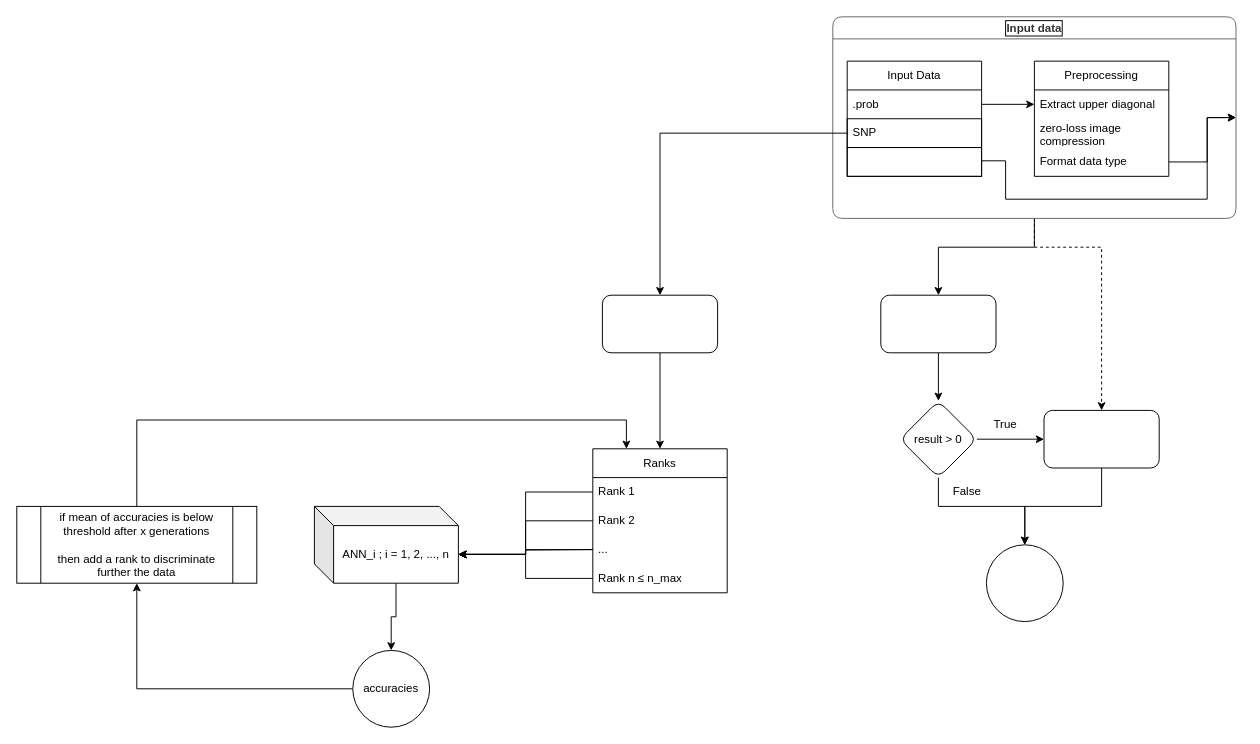
Image size: 1260x744. Some labels were removed from this diagram. The shapes that lost their labels are listed below. From the top down, each one's centre as x and y in pixels, then its label:
point (914, 161): fitness
point (659, 323): RF Classifier
point (938, 323): Binary Classifier
point (1101, 438): CNN
point (1024, 583): Return result
